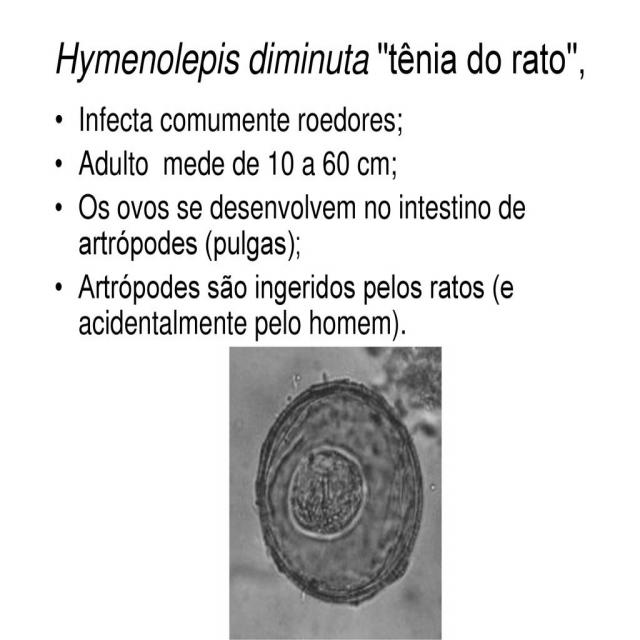Hymenolepis: (251, 372, 427, 607)
